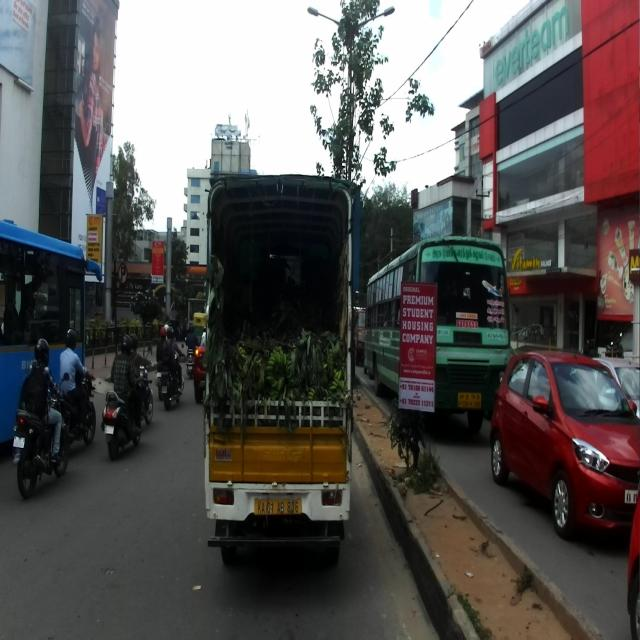Car_TATA: (489, 349, 639, 548)
bus: (364, 235, 508, 439)
motorcycle: (11, 378, 69, 505)
motorcycle_bajaj: (54, 370, 97, 449), (122, 360, 154, 426)
scooter: (100, 374, 145, 458)
truck: (204, 170, 360, 568)
